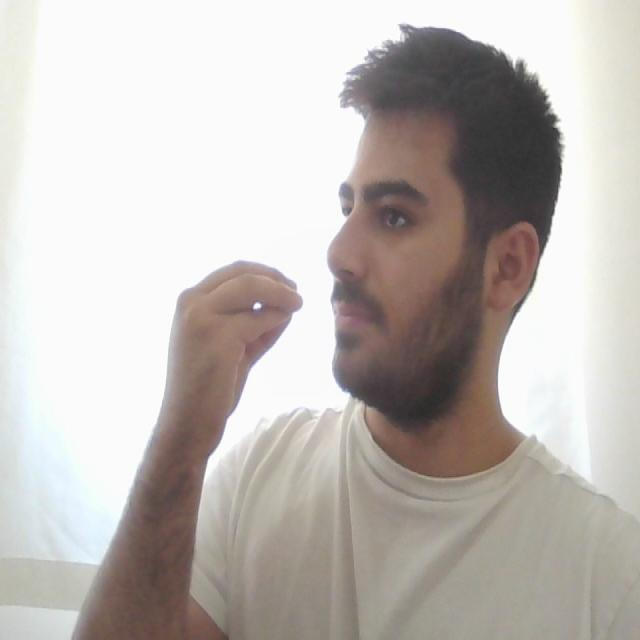Yemek: (163, 259, 390, 378)
